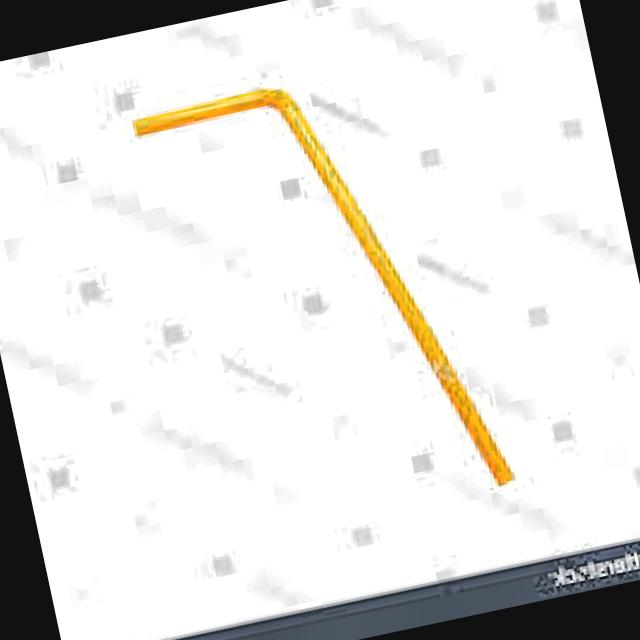plastic straw: (135, 88, 513, 485)
